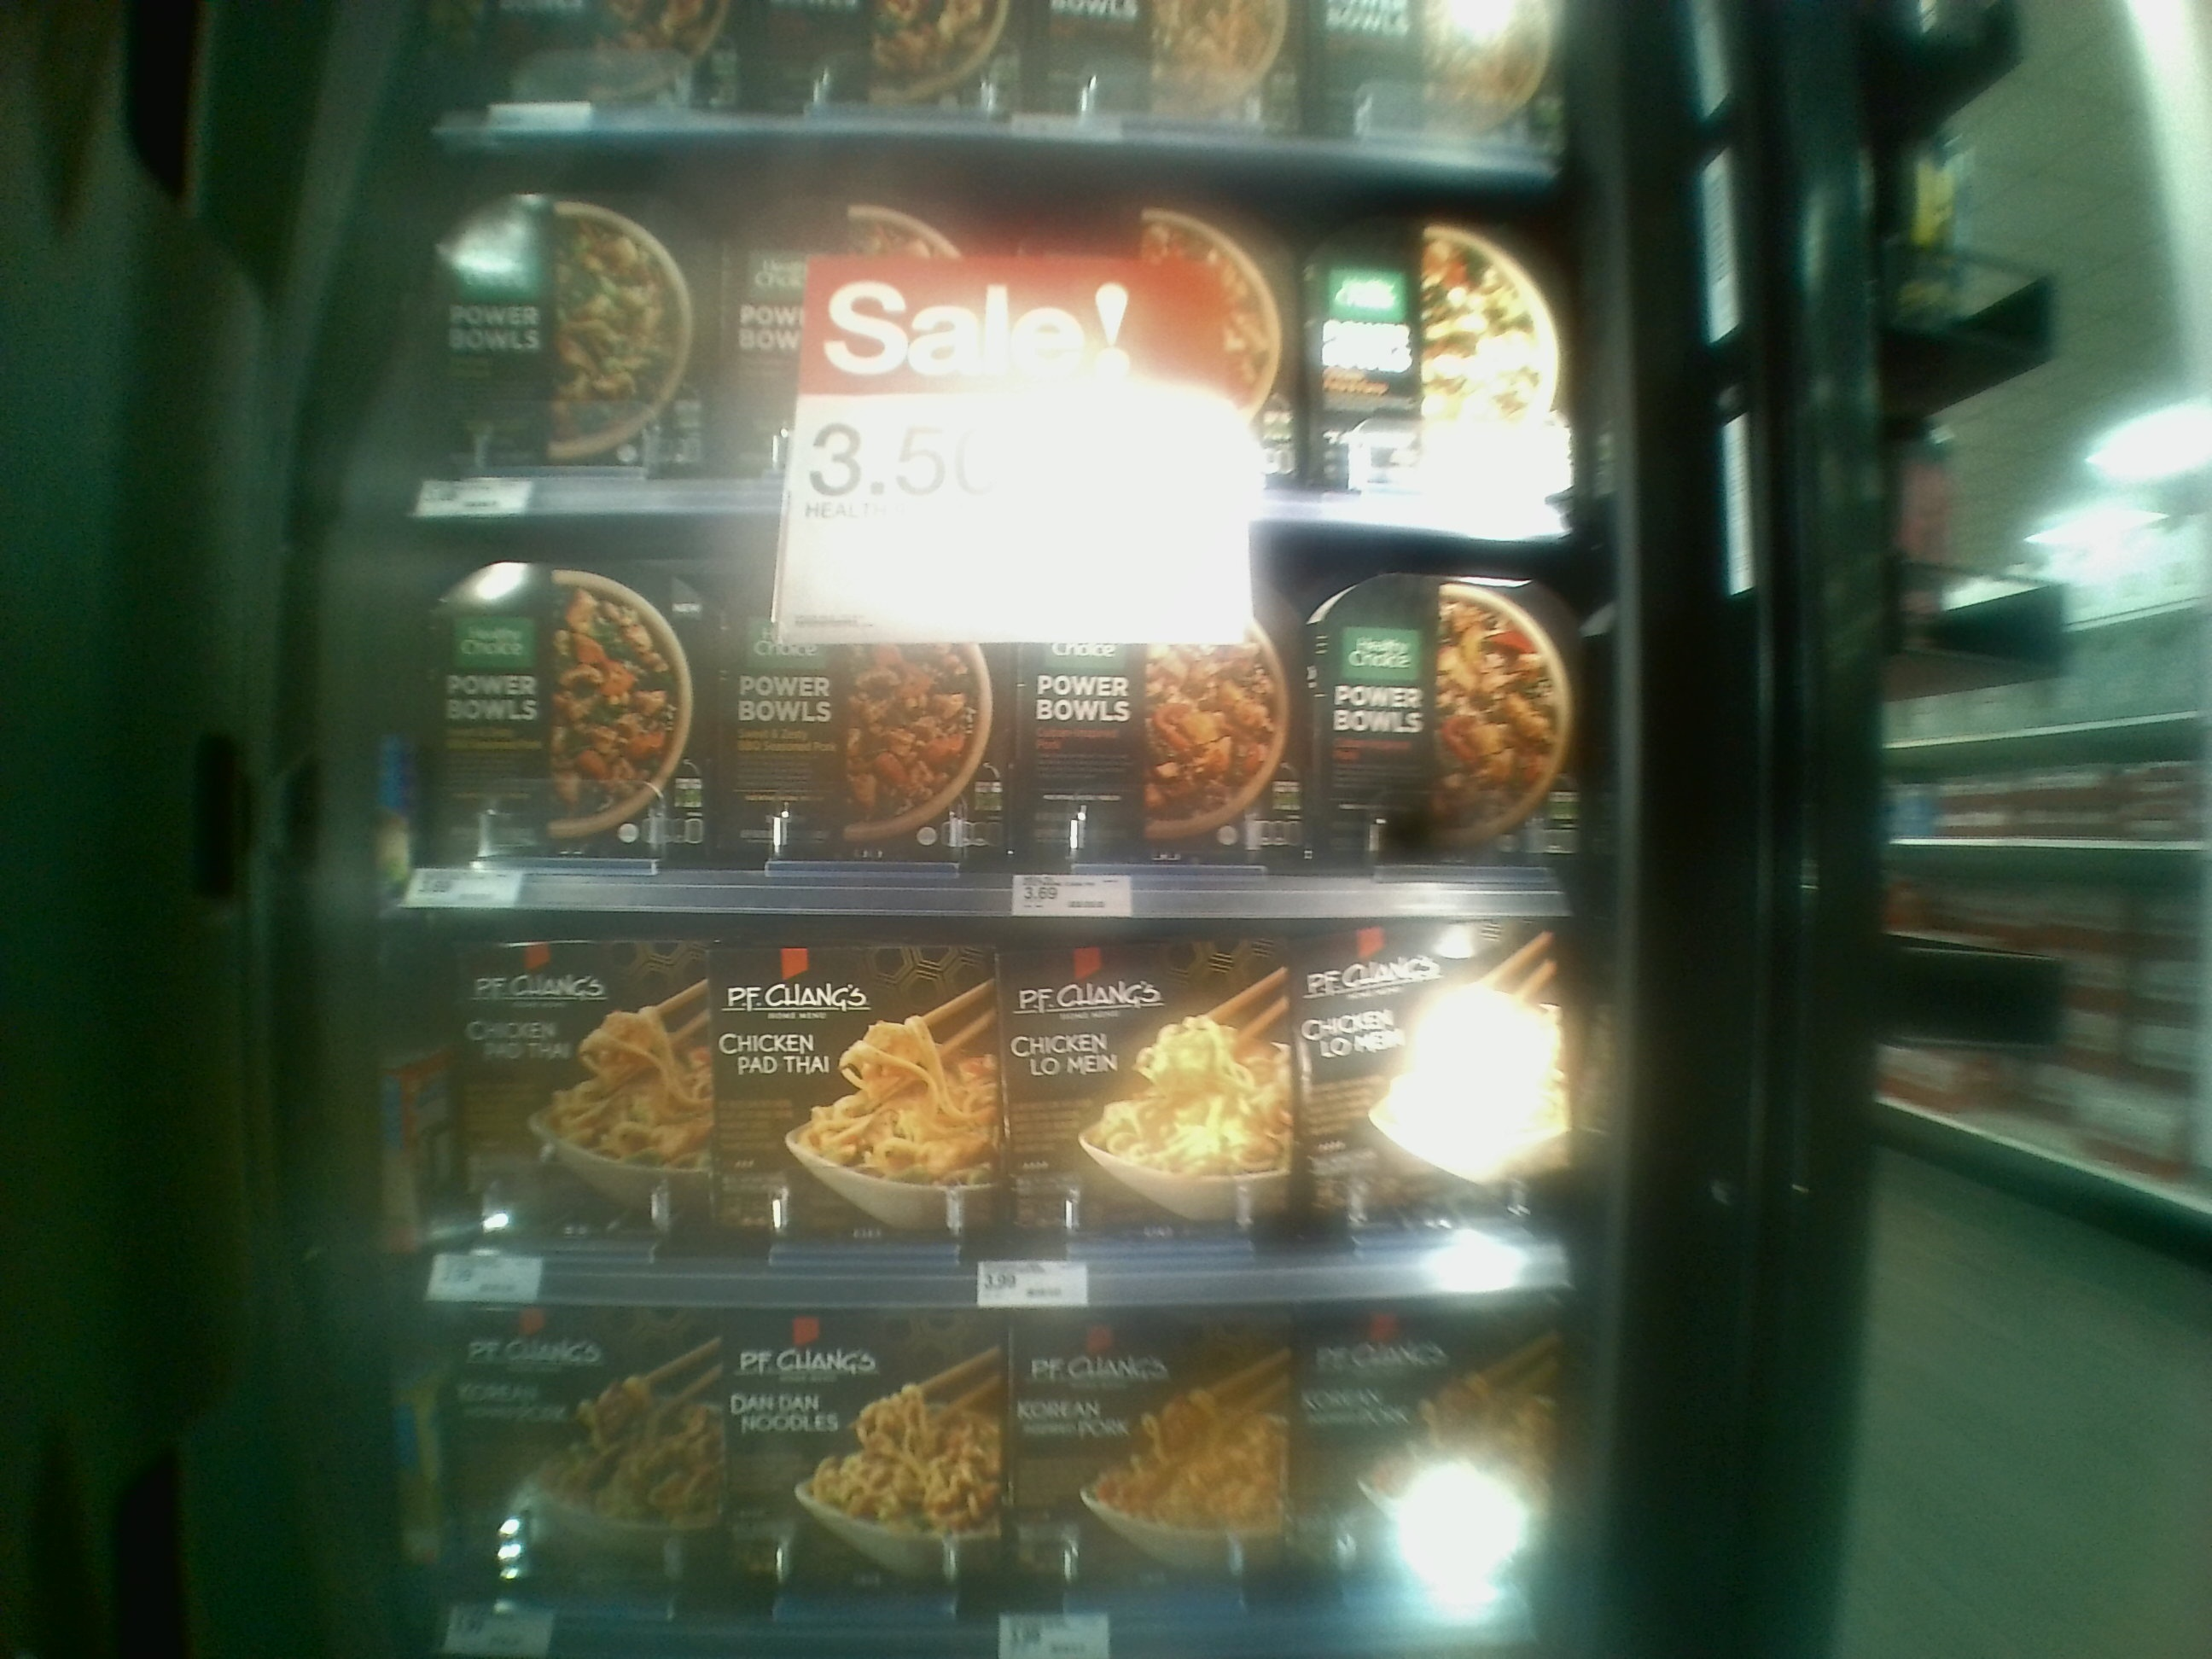shelf: (406, 507, 1581, 915)
